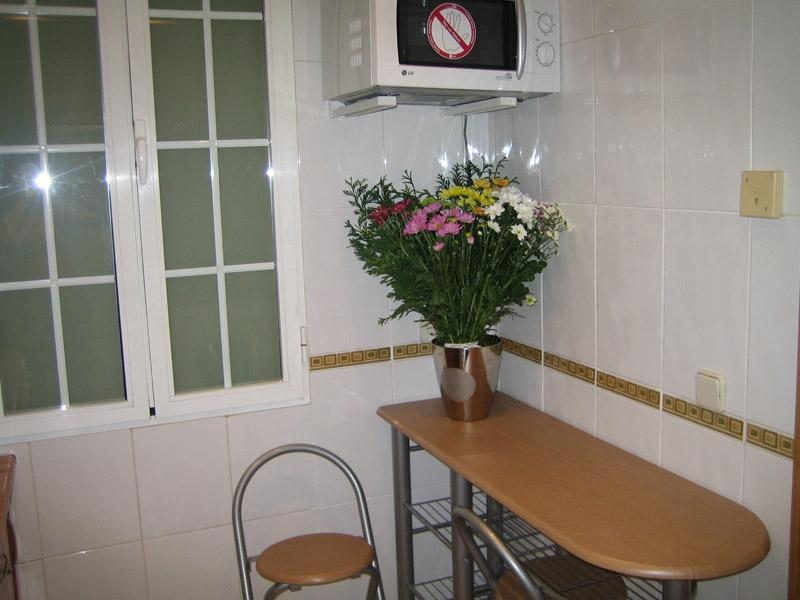Ventana: (11, 9, 303, 401)
